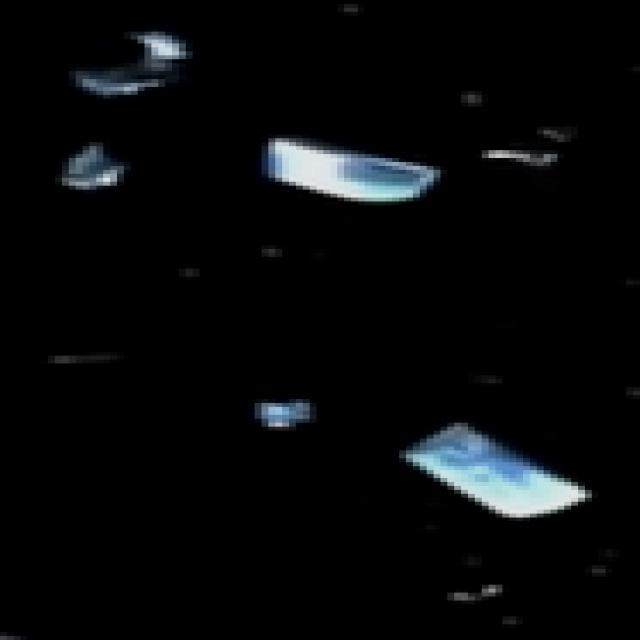medium_debris: (395, 420, 594, 522), (258, 126, 447, 210), (55, 136, 131, 196), (328, 0, 371, 20)
small_debris: (66, 22, 193, 98), (477, 144, 557, 166), (252, 398, 312, 426), (464, 363, 503, 396), (490, 608, 535, 635), (451, 546, 494, 574), (37, 350, 109, 366), (533, 121, 579, 144), (611, 371, 640, 406), (472, 578, 504, 606), (441, 584, 474, 610), (251, 240, 286, 263), (170, 264, 210, 284), (453, 87, 483, 111), (579, 560, 609, 580)
